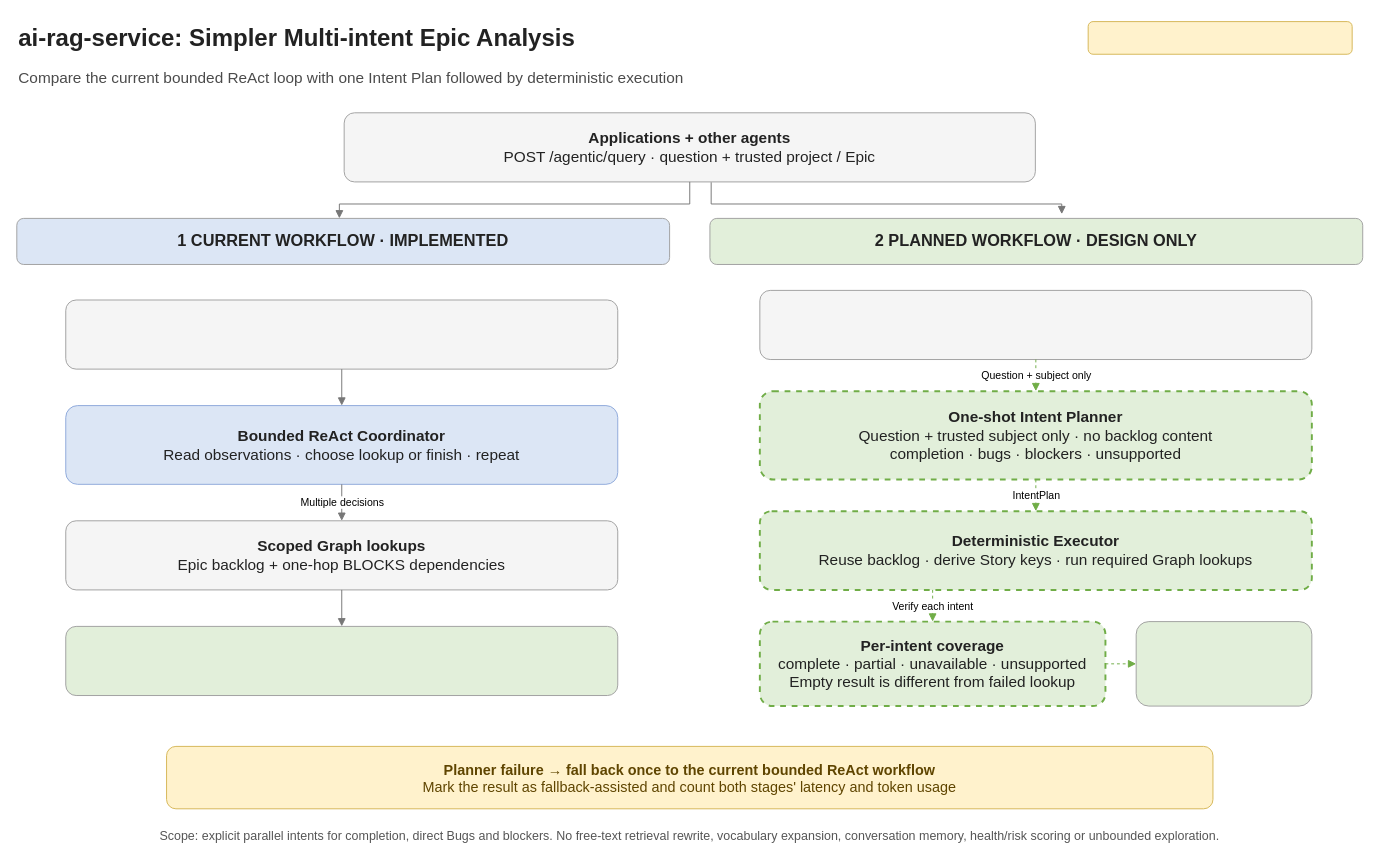
This 1380x867 diagram has some shape labels left out. Each missing label, with the centre of its shape:
"Backlog validation + internal data Read once and retain for the Executor" goes at point (1035, 324).
"Epic report Facts + findings + coverage + citations" goes at point (341, 660).
"Initial backlog read Validate Epic + load Stories and Bugs" goes at point (341, 334).
"PLANNED · NOT IMPLEMENTED" goes at point (1219, 37).
"Same Epic report Verified evidence only One final LLM call" goes at point (1223, 663).
